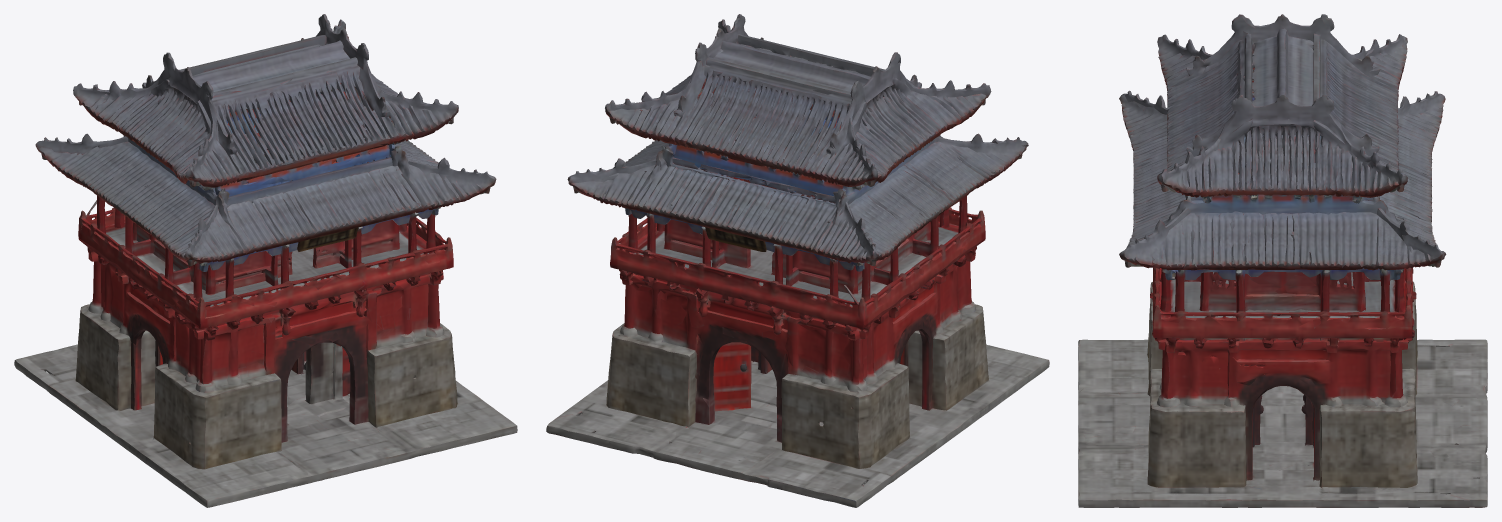
The model's file is street-gate.glb.
The picture shows the model from 3 angles, left to right: view 1: azimuth 30°, elevation 25°; view 2: azimuth 150°, elevation 25°; view 3: azimuth 270°, elevation 25°; orthographic projection. The views are drawn at different scales.
Visible parts, largest first — view 1: world; view 2: world; view 3: world.
Part boxes in pixels (<box>): world: <box>14,14,517,507</box>; world: <box>546,14,1049,507</box>; world: <box>1078,14,1487,507</box>.
Size of the model in its own units: 11.09 by 12 by 11.93.
Materials: 1 (1 with a texture image).
